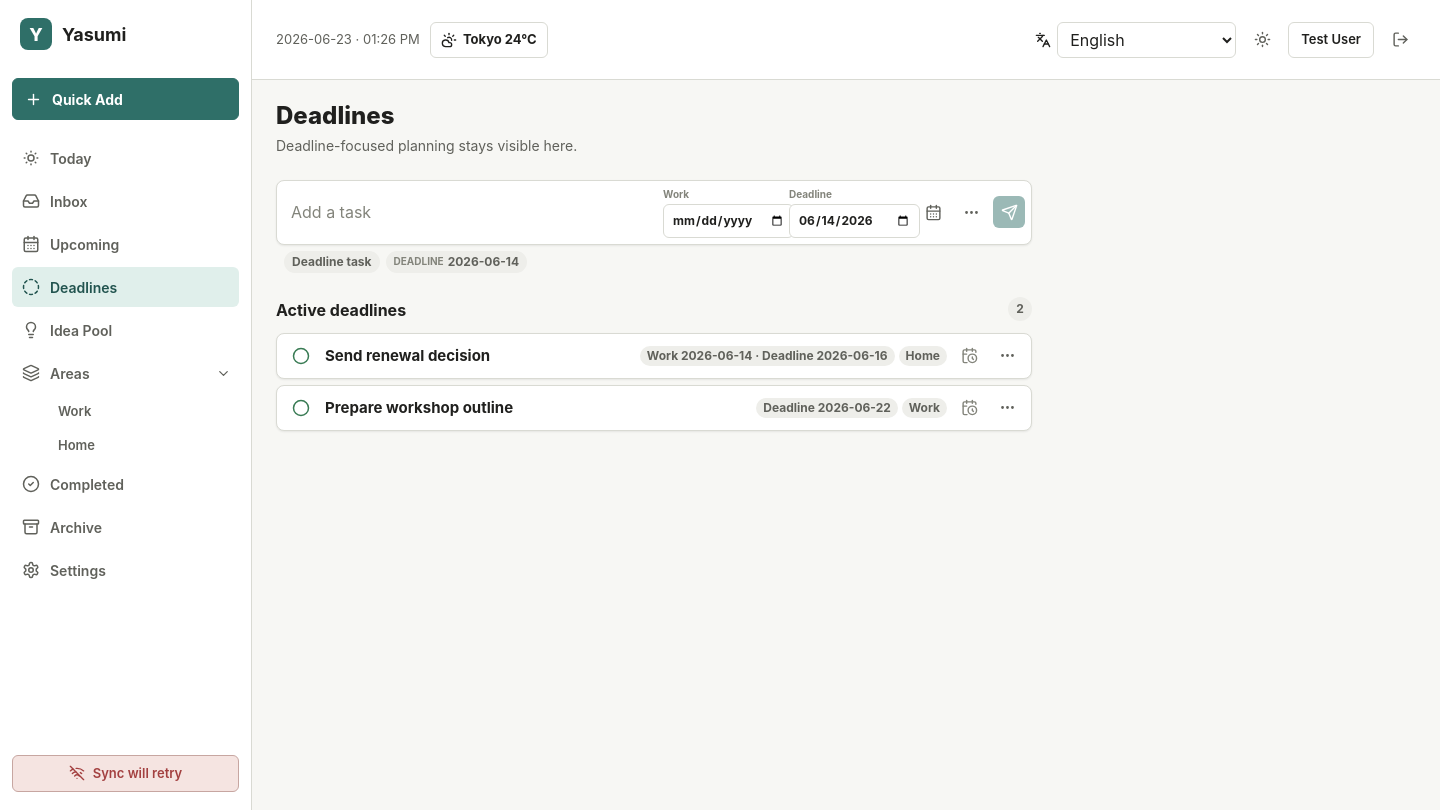
Test: phase 04 pages and action surfaces › lets inline deadline Quick Add set a planned work date
Expected: the heading "Deadlines" is shown, [276,101,394,130]
In the field named "Task title": (470, 212) [283,194,657,230], type "File quarterly paperwork"
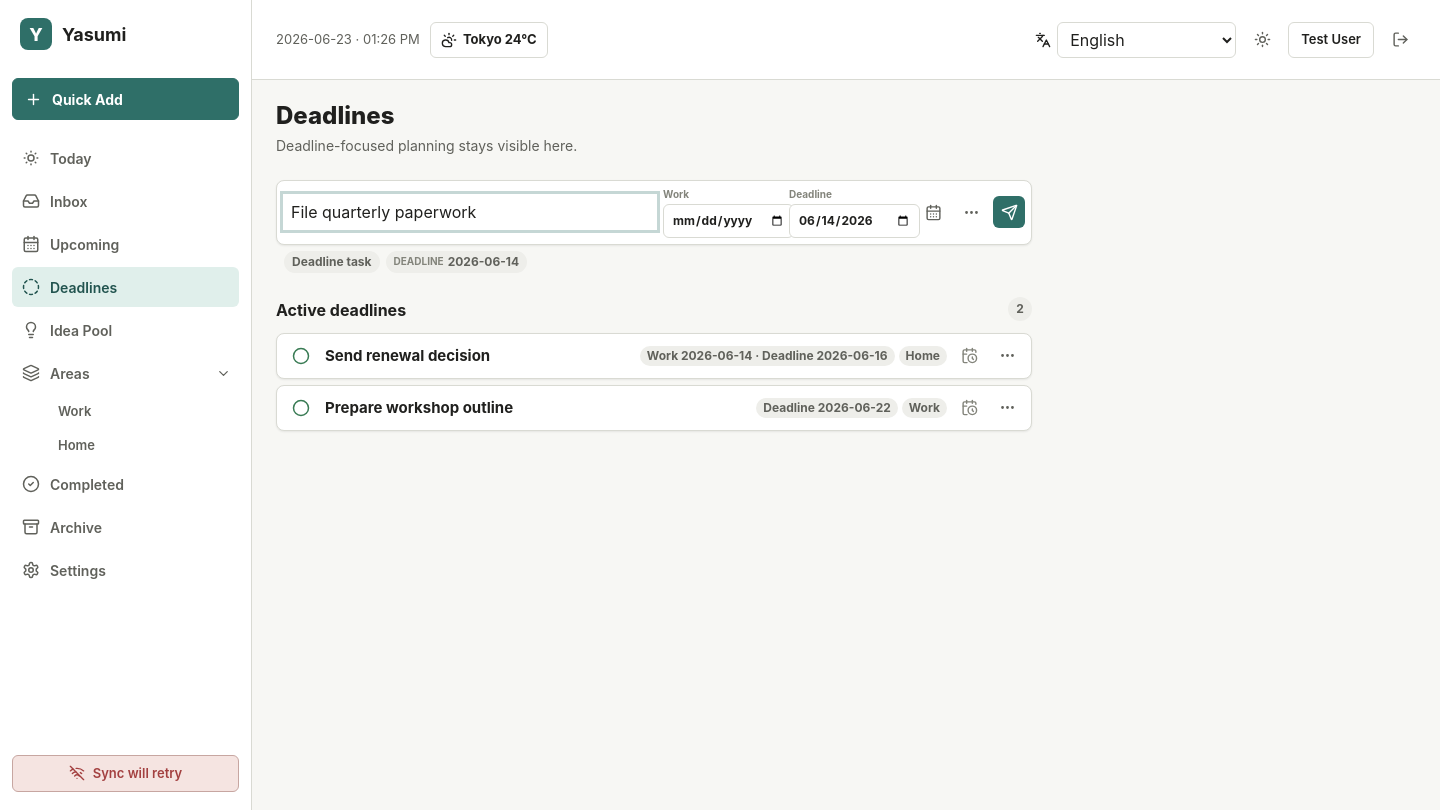
In the date field named "Planned work date": (728, 221) [663,204,794,238], type "2026-06-20"
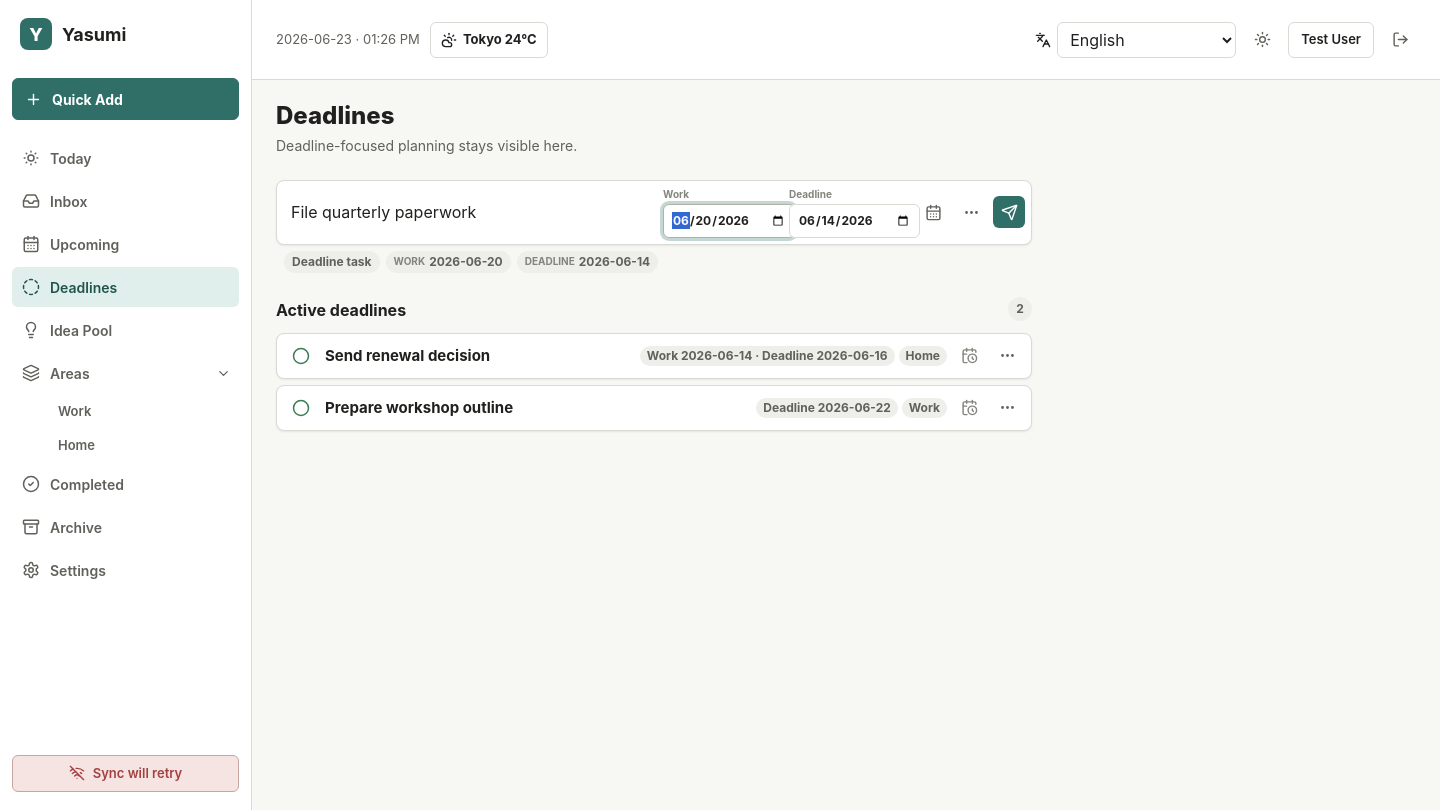
In the date field named "Deadline date": (854, 221) [789,204,920,238], type "2026-06-25"
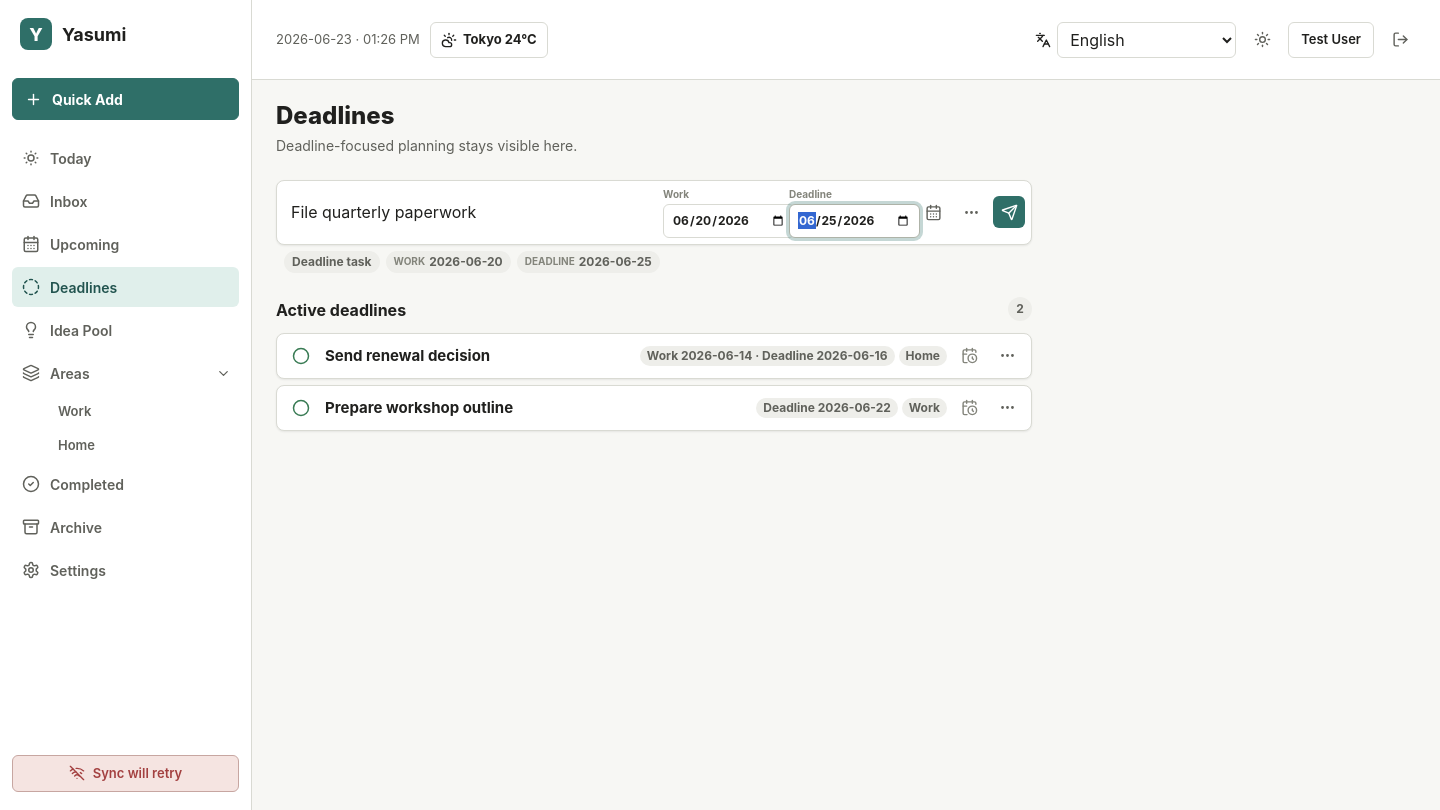
Press Enter
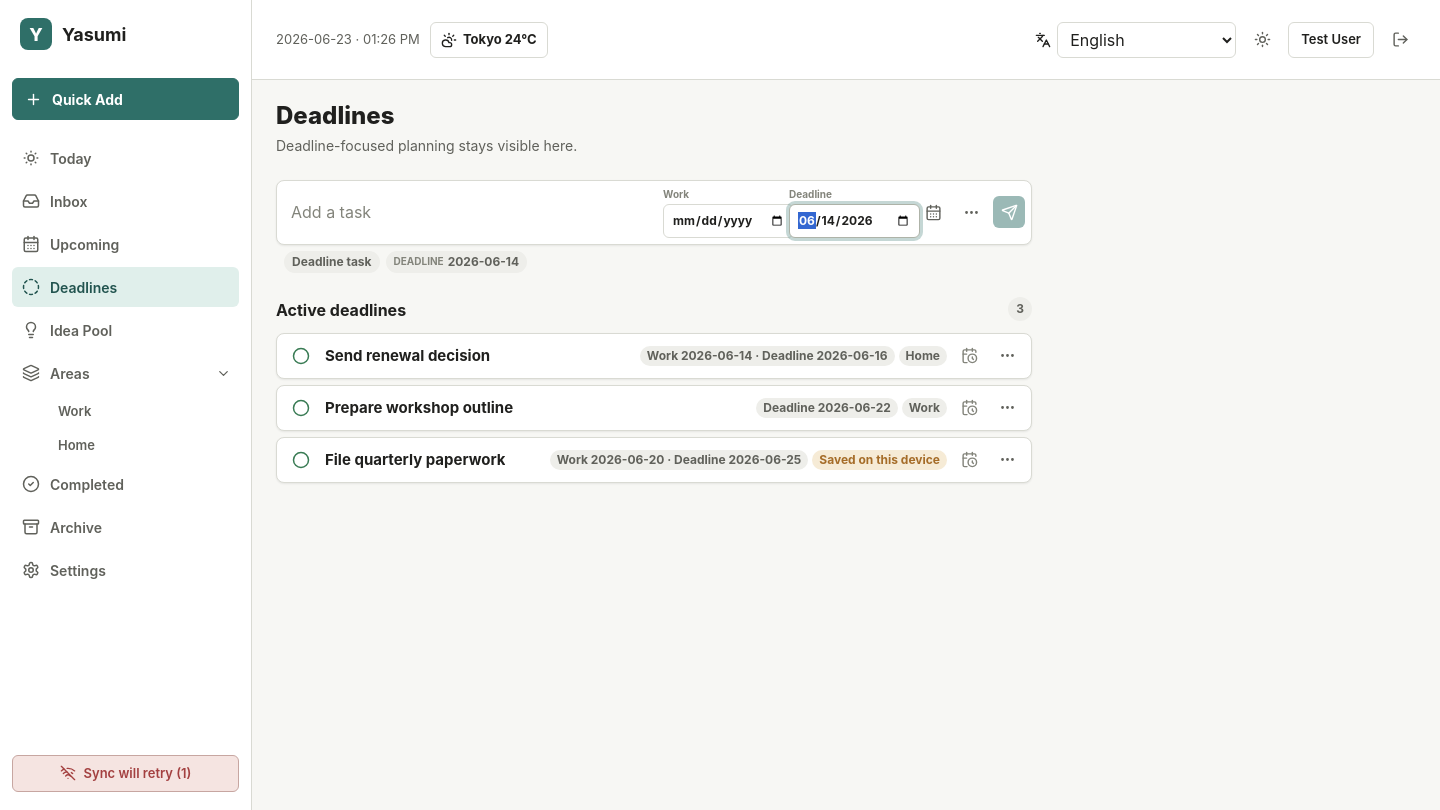
Result: the text "File quarterly paperwork" is shown at [325,450,506,470]
Result: the text "Work 2026-06-20 · Deadline 2026-06-25" is shown at [550,450,808,470]
